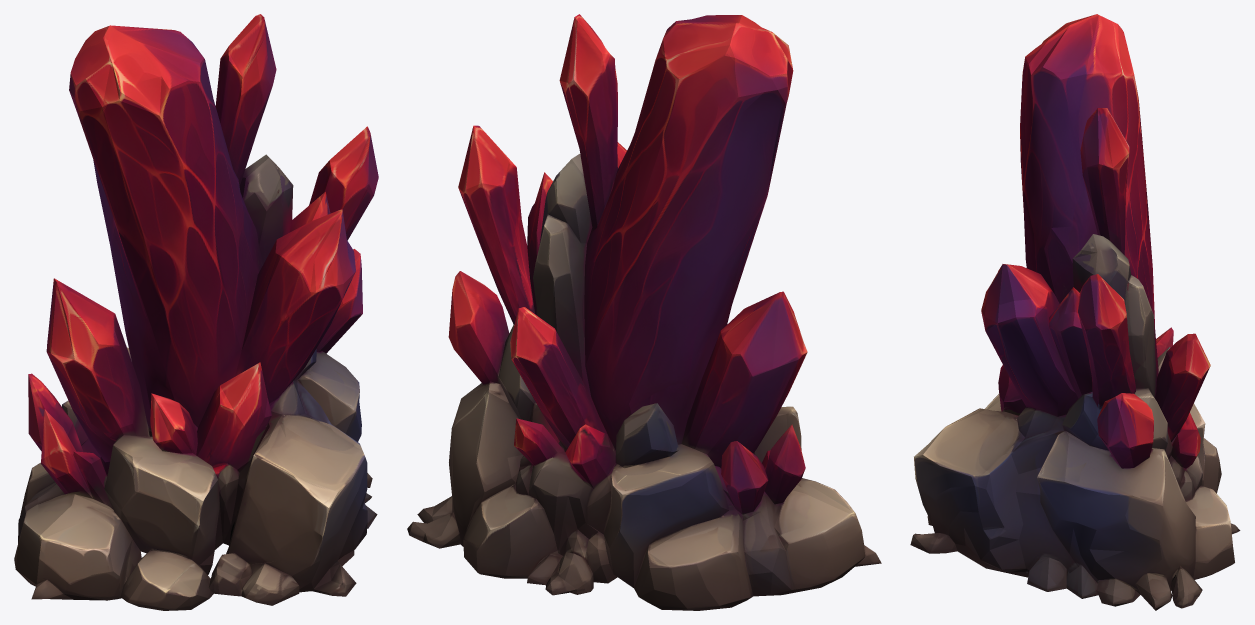
The model's file is SM_Ore19.fbx.
The picture shows the model from 3 angles, left to right: view 1: azimuth 30°, elevation 25°; view 2: azimuth 150°, elevation 25°; view 3: azimuth 270°, elevation 25°; orthographic projection. The views are drawn at different scales.
Visible parts, largest first — view 1: Ore19; view 2: Ore19; view 3: Ore19.
Boxes of the visible parts, left/top/right/bottom form: Ore19: left=14, top=14, right=378, bottom=610; Ore19: left=407, top=14, right=881, bottom=610; Ore19: left=910, top=14, right=1240, bottom=610.
Size of the model in its own units: 128 by 167 by 105.
1 material, 1 textured.
